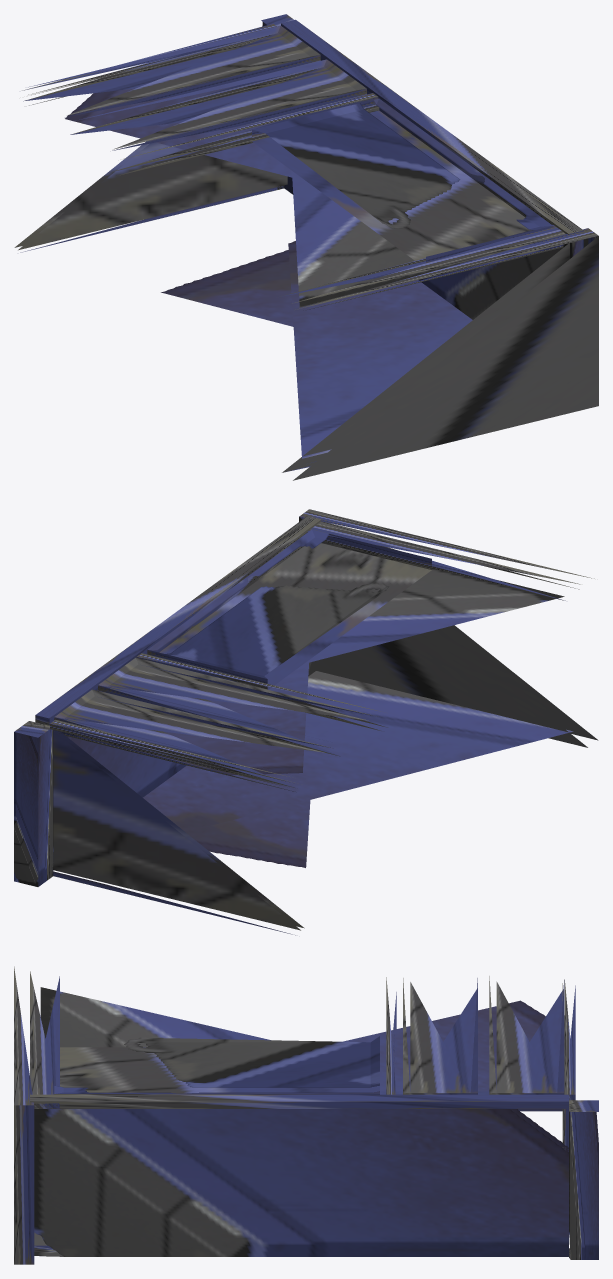
3 views of the same model, one above another, from view 1: azimuth 30°, elevation 25°; view 2: azimuth 150°, elevation 25°; view 3: azimuth 270°, elevation 25° (orthographic). The views are drawn at different scales.
Bounding box in the file's own units: 1.15 × 0.659 × 2.03.
